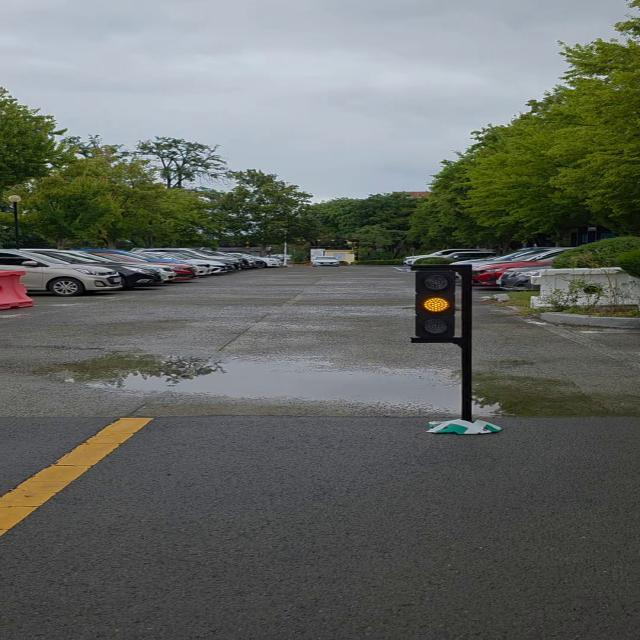yellow: (418, 268, 459, 344)
